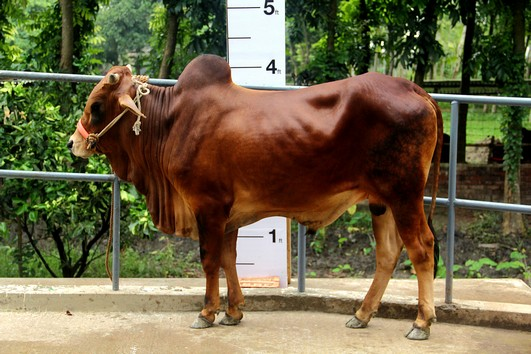cow: (65, 46, 445, 341)
